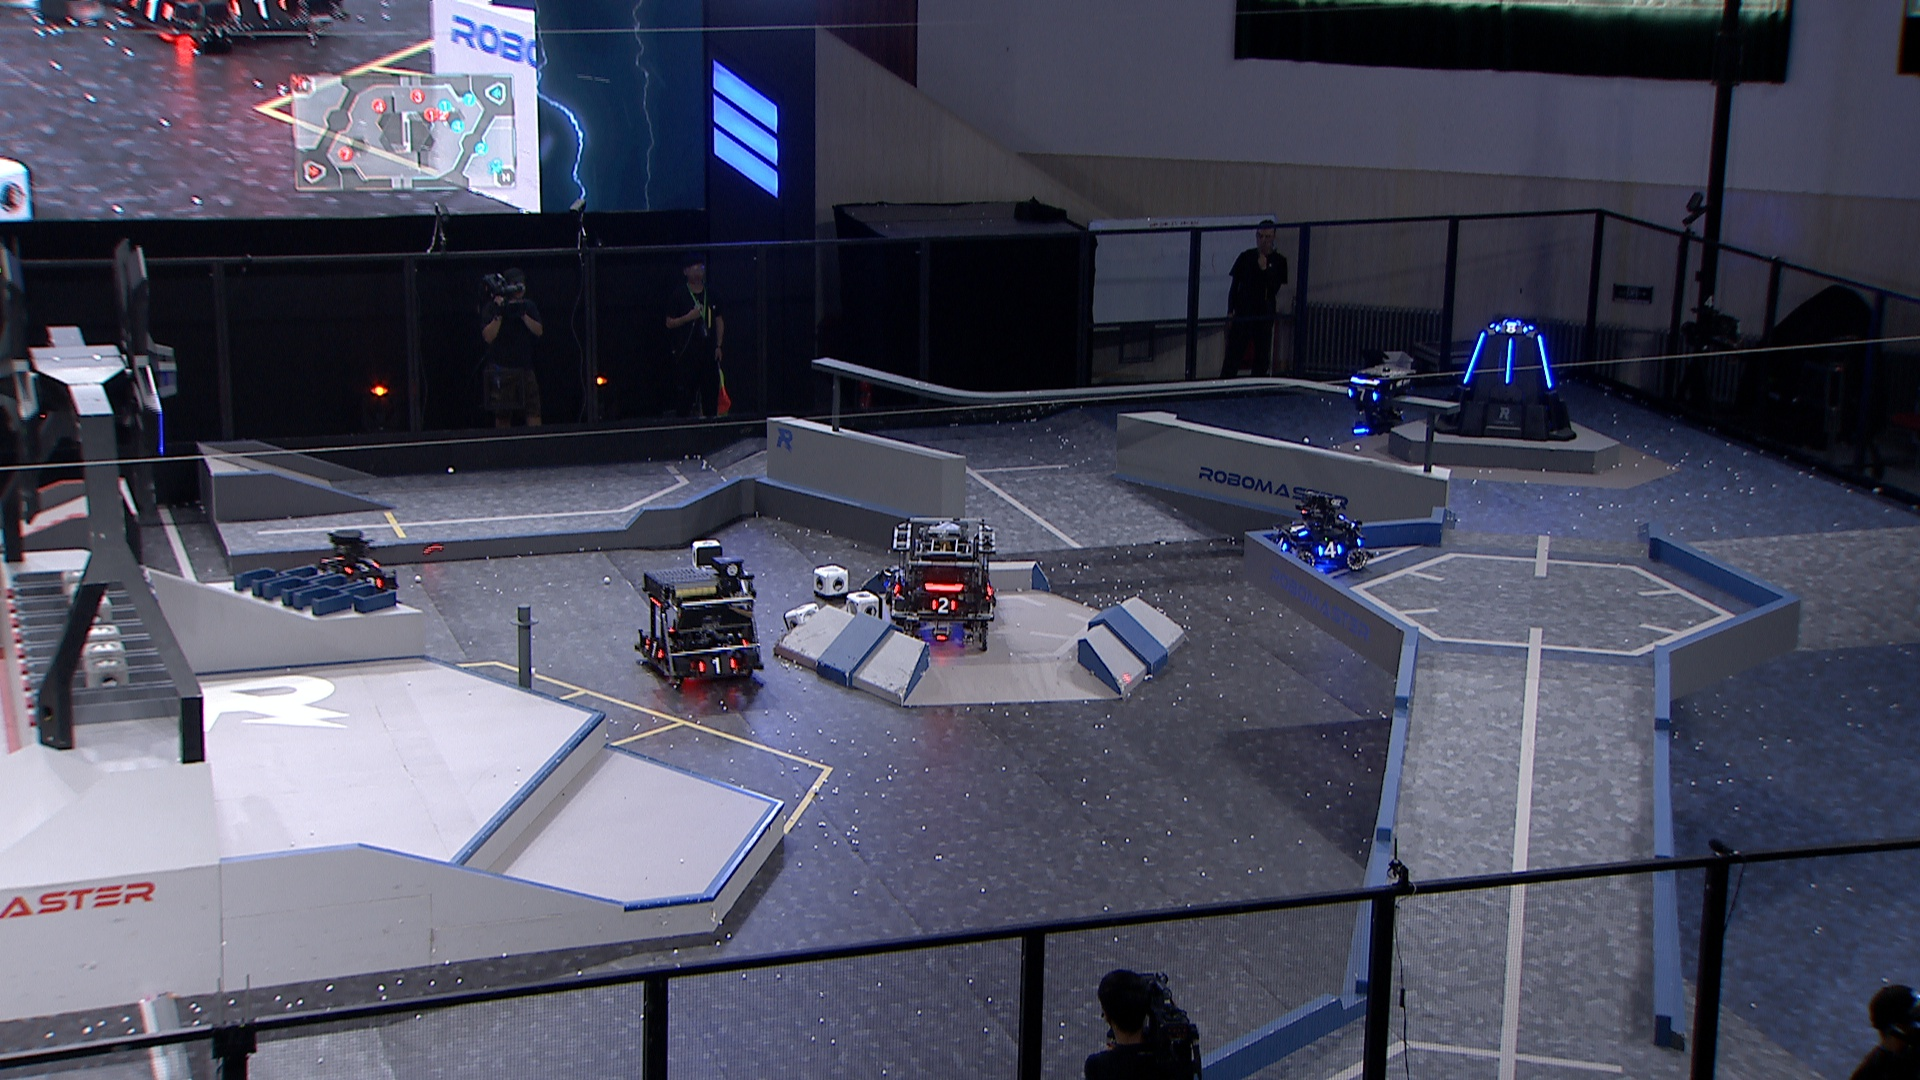armor: (1461, 328, 1487, 386), (694, 655, 738, 678), (1538, 332, 1555, 390), (1316, 538, 1344, 560), (1344, 386, 1379, 404), (928, 595, 957, 615), (641, 637, 666, 659), (1494, 320, 1531, 335), (1505, 338, 1515, 386), (1284, 520, 1309, 538), (344, 560, 378, 572), (361, 574, 384, 589), (1273, 534, 1288, 551)
base: (1429, 316, 1577, 444)
car: (632, 562, 766, 690), (887, 514, 998, 651), (1266, 487, 1371, 575), (311, 527, 400, 603)
watcher: (1342, 363, 1414, 436)
